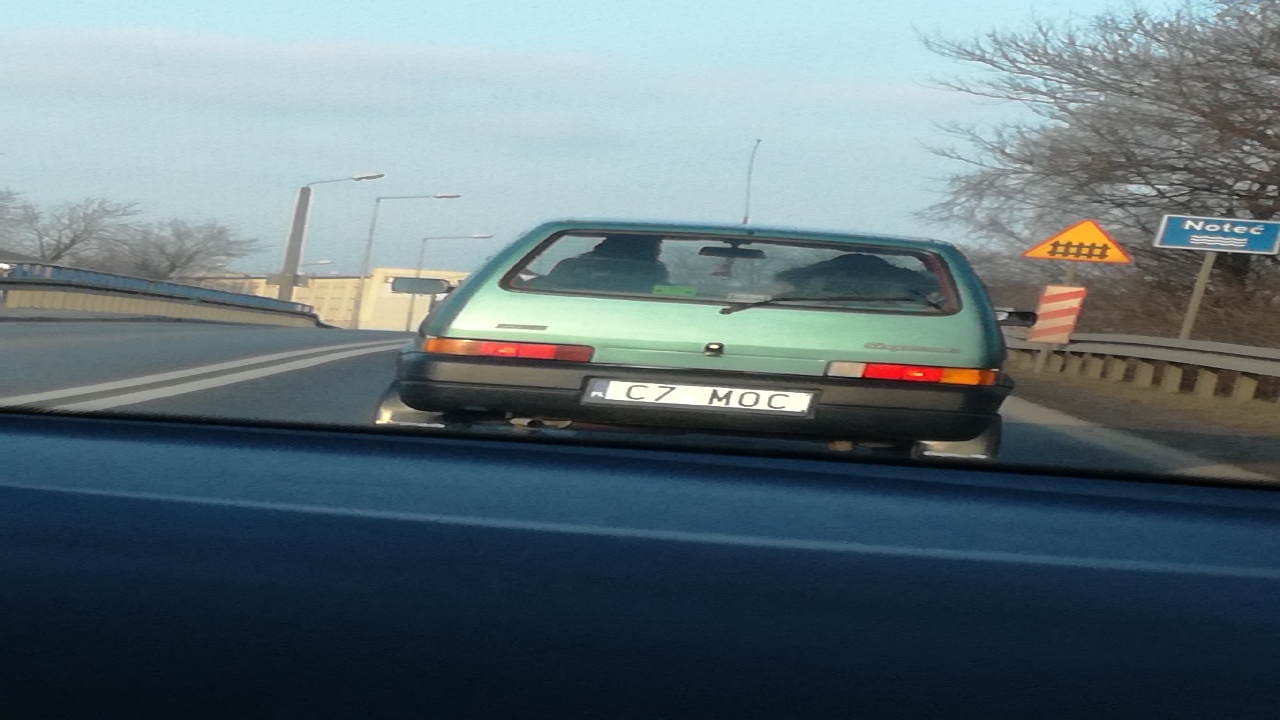A9: (1022, 218, 1133, 265)
